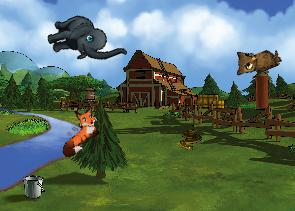elephant: (42, 2, 127, 79)
fox: (47, 101, 109, 160)
owl: (229, 37, 283, 80)
